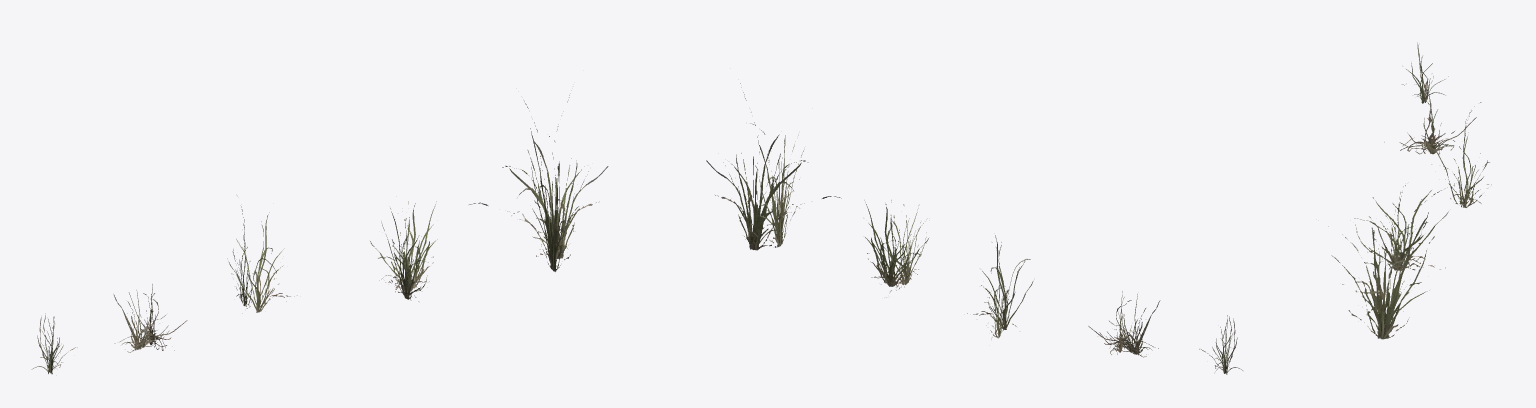
Rendered from grass_medium_02_far.glb.
3 views of the same model, side by side, from view 1: azimuth 30°, elevation 25°; view 2: azimuth 150°, elevation 25°; view 3: azimuth 270°, elevation 25° (orthographic). The views are drawn at different scales.
Parts seen in each view (by area): view 1: grass_medium_02_e, grass_medium_02_d, grass_medium_02_c, grass_medium_02_b, grass_medium_02_a; view 2: grass_medium_02_e, grass_medium_02_d, grass_medium_02_c, grass_medium_02_b, grass_medium_02_a; view 3: grass_medium_02_e, grass_medium_02_d, grass_medium_02_c, grass_medium_02_b, grass_medium_02_a.
Part boxes in pixels (x1,y1,x2,y2): grass_medium_02_e: [469, 90, 608, 271]; grass_medium_02_d: [370, 201, 437, 301]; grass_medium_02_c: [227, 206, 297, 313]; grass_medium_02_b: [113, 284, 187, 352]; grass_medium_02_a: [31, 313, 77, 374]; grass_medium_02_e: [706, 83, 841, 250]; grass_medium_02_d: [864, 200, 928, 297]; grass_medium_02_c: [967, 235, 1033, 339]; grass_medium_02_b: [1088, 291, 1160, 357]; grass_medium_02_a: [1199, 315, 1242, 374]; grass_medium_02_e: [1328, 185, 1453, 339]; grass_medium_02_d: [1354, 185, 1448, 270]; grass_medium_02_c: [1400, 102, 1491, 207]; grass_medium_02_b: [1384, 87, 1476, 154]; grass_medium_02_a: [1401, 42, 1448, 103].
Bounding box in the file's own units: 1.38 × 0.4527 × 0.4506.
Materials: 10 (10 with a texture image).
